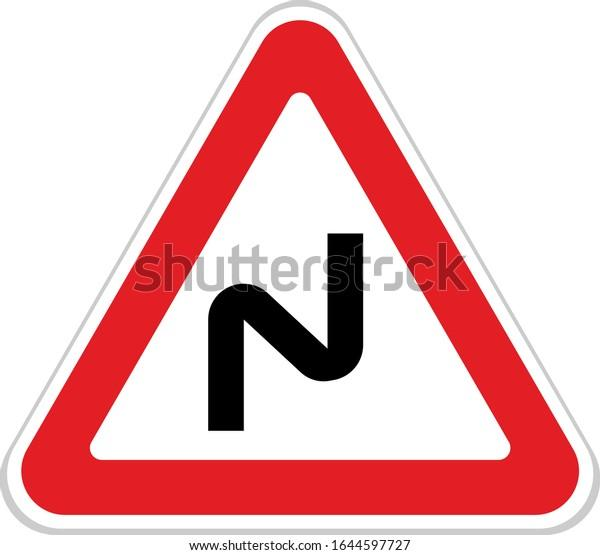Right Reverse Bend: (70, 44, 550, 517)
